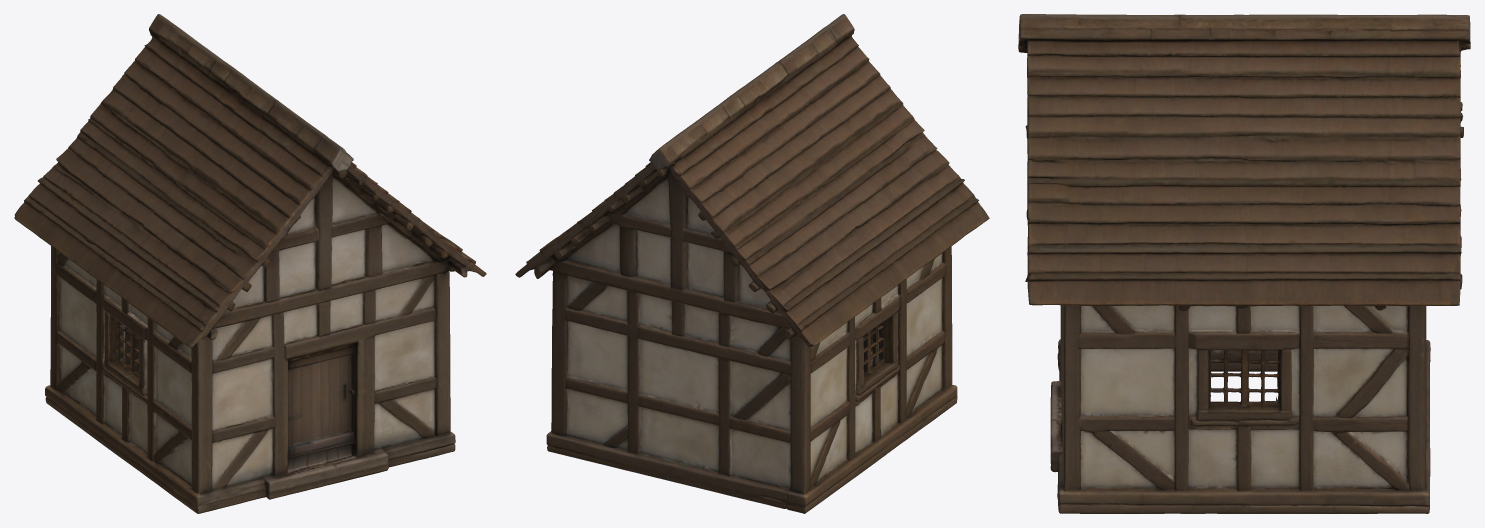
Rendered from house.glb.
The picture shows the model from 3 angles, left to right: view 1: azimuth 30°, elevation 25°; view 2: azimuth 150°, elevation 25°; view 3: azimuth 270°, elevation 25°; orthographic projection. The views are drawn at different scales.
Visible parts, largest first — view 1: Mesh_0.001; view 2: Mesh_0.001; view 3: Mesh_0.001.
Boxes of the visible parts, <box> form: Mesh_0.001: <box>14,14,486,513</box>; Mesh_0.001: <box>515,14,989,513</box>; Mesh_0.001: <box>1018,14,1470,513</box>.
Size of the model in its own units: 6.3 by 7 by 6.77.
1 material, 1 textured.
